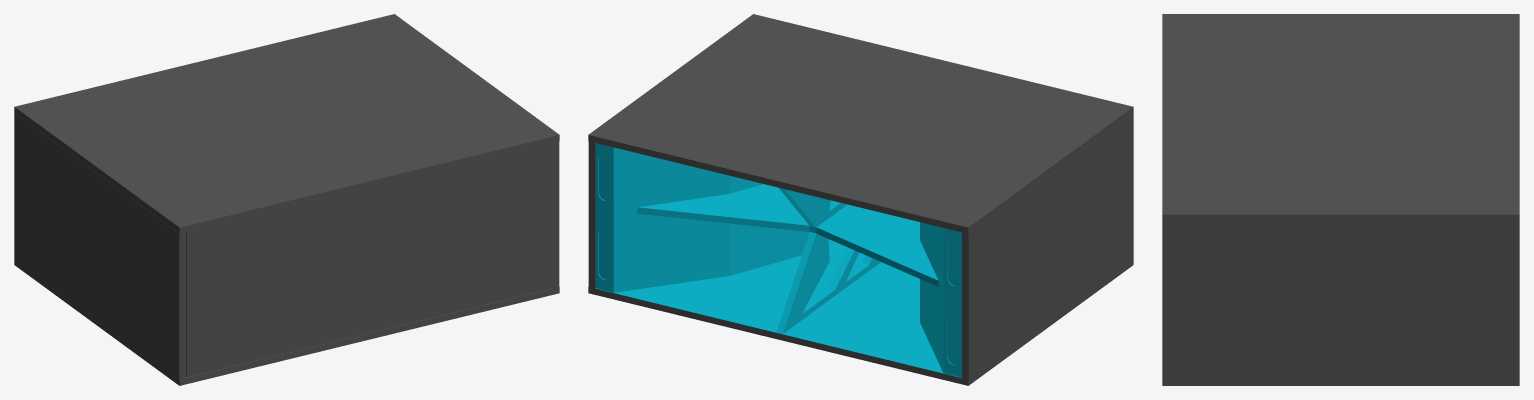
The model's file is Model tanpa judul.glb.
The picture shows the model from 3 angles, left to right: view 1: azimuth 30°, elevation 25°; view 2: azimuth 150°, elevation 25°; view 3: azimuth 270°, elevation 25°; orthographic projection. The views are drawn at different scales.
Parts seen in each view (by area): view 1: New_Game_Object; view 2: New_Game_Object; view 3: New_Game_Object.
Boxes of the visible parts, x1,y1,x2,y2 form: New_Game_Object: [14, 14, 559, 385]; New_Game_Object: [588, 14, 1133, 385]; New_Game_Object: [1162, 14, 1519, 385].
Bounding box in the file's own units: 3 × 1.19 × 2.25.
